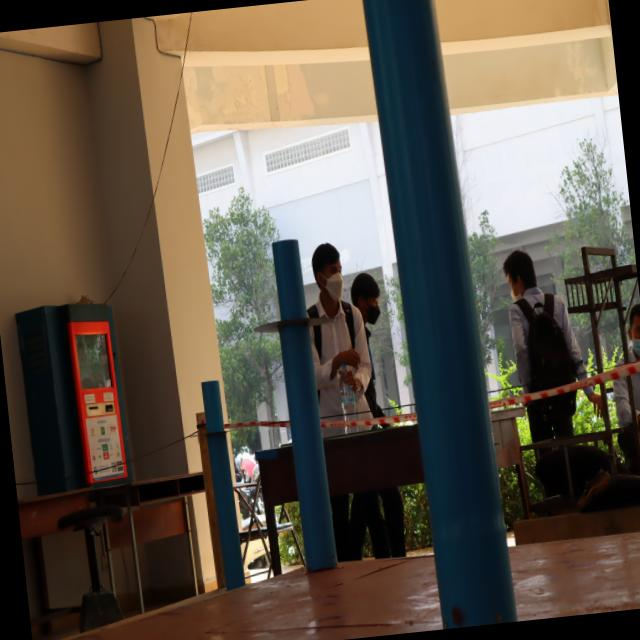pole: (246, 231, 340, 387), (188, 378, 248, 476)
